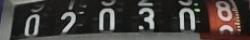digits: (132, 0, 161, 33), (95, 0, 120, 38), (58, 0, 81, 38), (22, 0, 44, 38), (214, 0, 237, 36), (178, 8, 198, 36)
